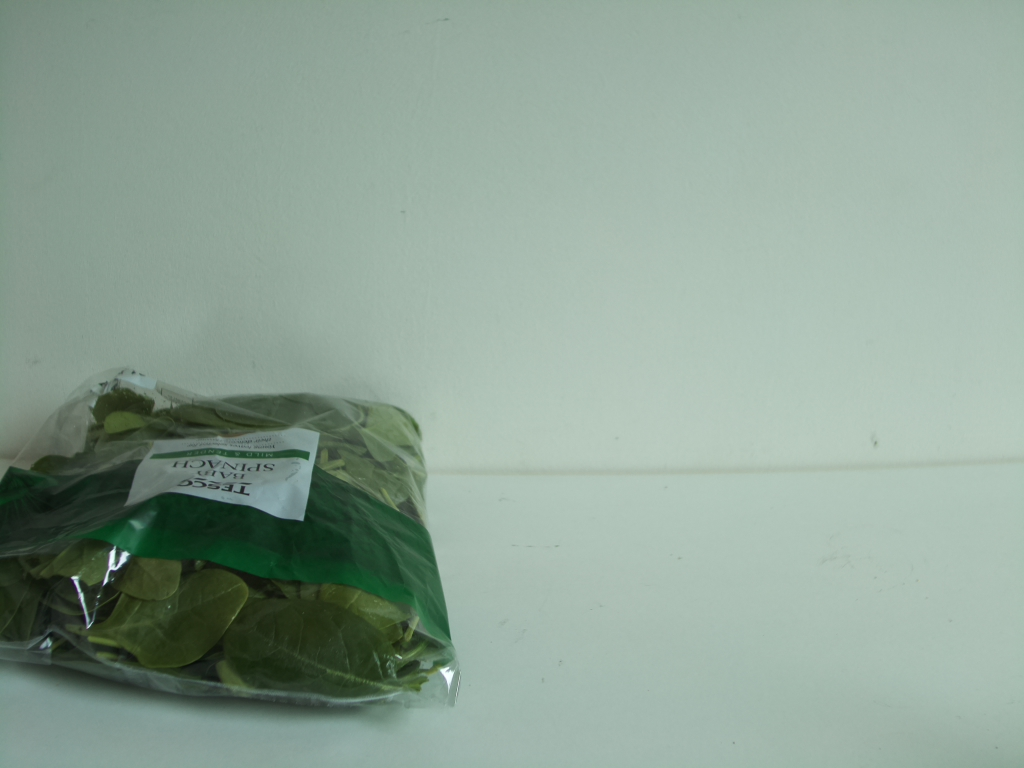salad: (1, 387, 456, 714)
